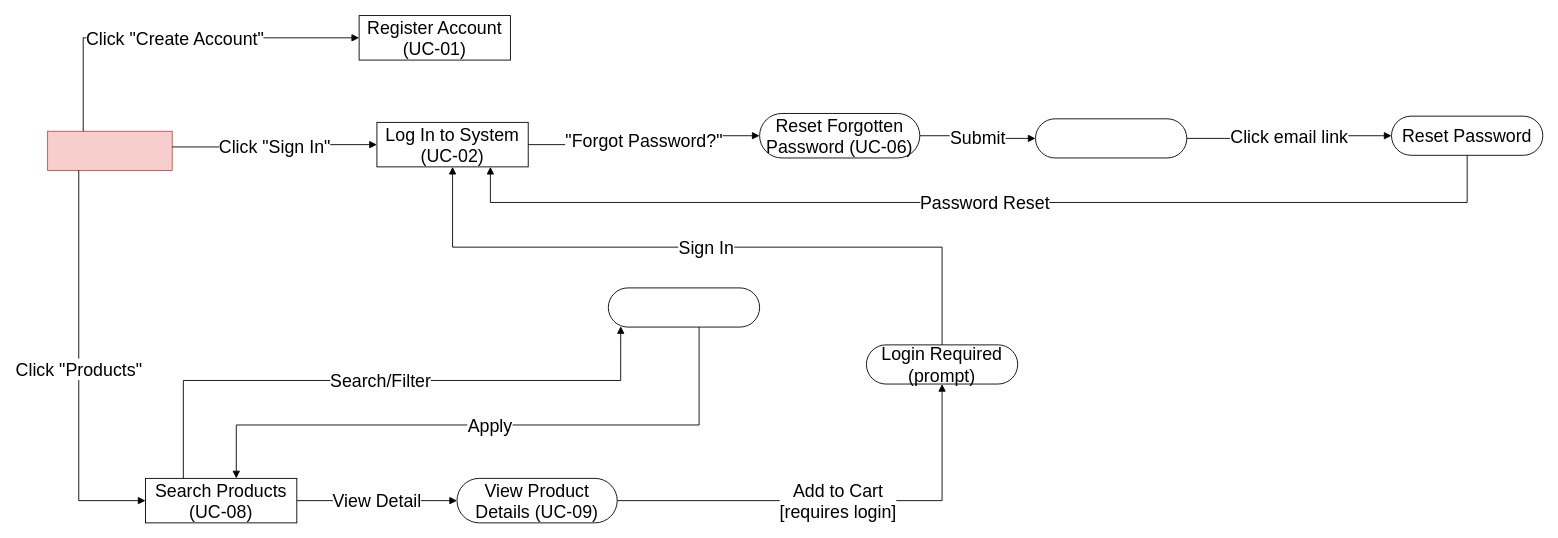
Some shapes in this 1558 by 538 pixel diagram are drawn without their labels. Each missing label, with the centre of its shape:
Home Page: the point at 109,150
Reset Link Sent: the point at 1111,138
Search & Filter: the point at 683,307
